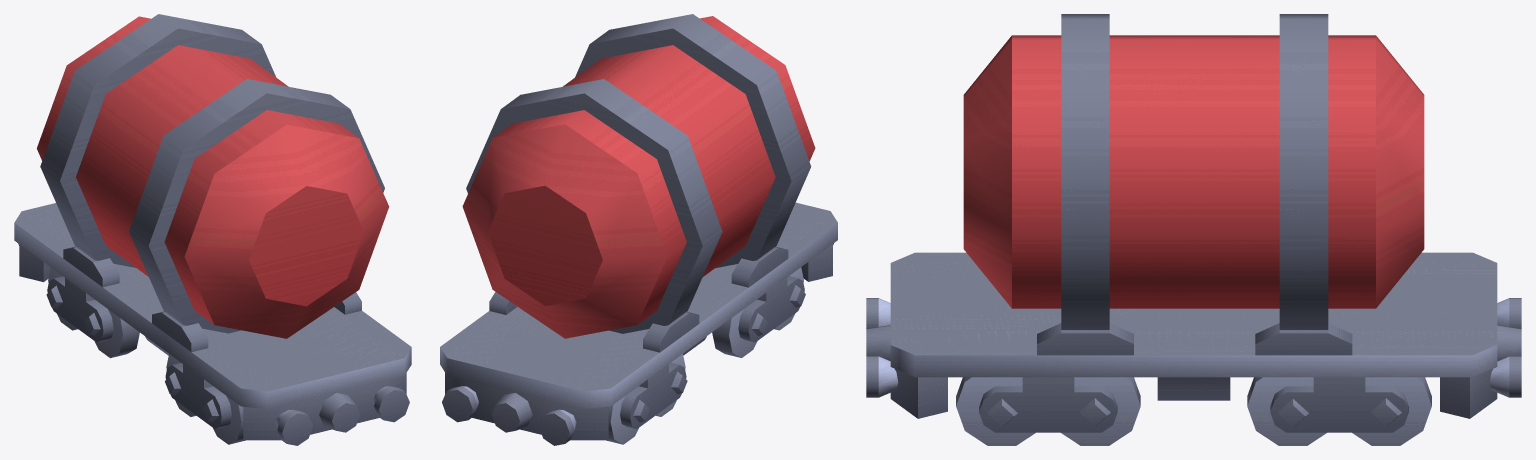
Rendered from train-carriage-tank.glb.
3 renders of one model, left to right at view 1: azimuth 30°, elevation 25°; view 2: azimuth 150°, elevation 25°; view 3: azimuth 270°, elevation 25°, orthographic. The views are drawn at different scales.
Visible parts, largest first — view 1: train-carriage-tank, wheels-back, wheels-front; view 2: train-carriage-tank, wheels-front, wheels-back; view 3: train-carriage-tank, wheels-back, wheels-front.
Boxes of the visible parts, bbox=[...] form: train-carriage-tank: bbox=[14, 14, 411, 445]; wheels-back: bbox=[46, 267, 139, 358]; wheels-front: bbox=[165, 354, 245, 444]; train-carriage-tank: bbox=[440, 14, 837, 445]; wheels-front: bbox=[712, 267, 805, 357]; wheels-back: bbox=[606, 354, 687, 444]; train-carriage-tank: bbox=[866, 14, 1521, 418]; wheels-back: bbox=[1247, 377, 1431, 445]; wheels-front: bbox=[956, 377, 1140, 445].
Size of the model in its own units: 1.39 by 1.75 by 2.7.
1 material, 1 textured.
